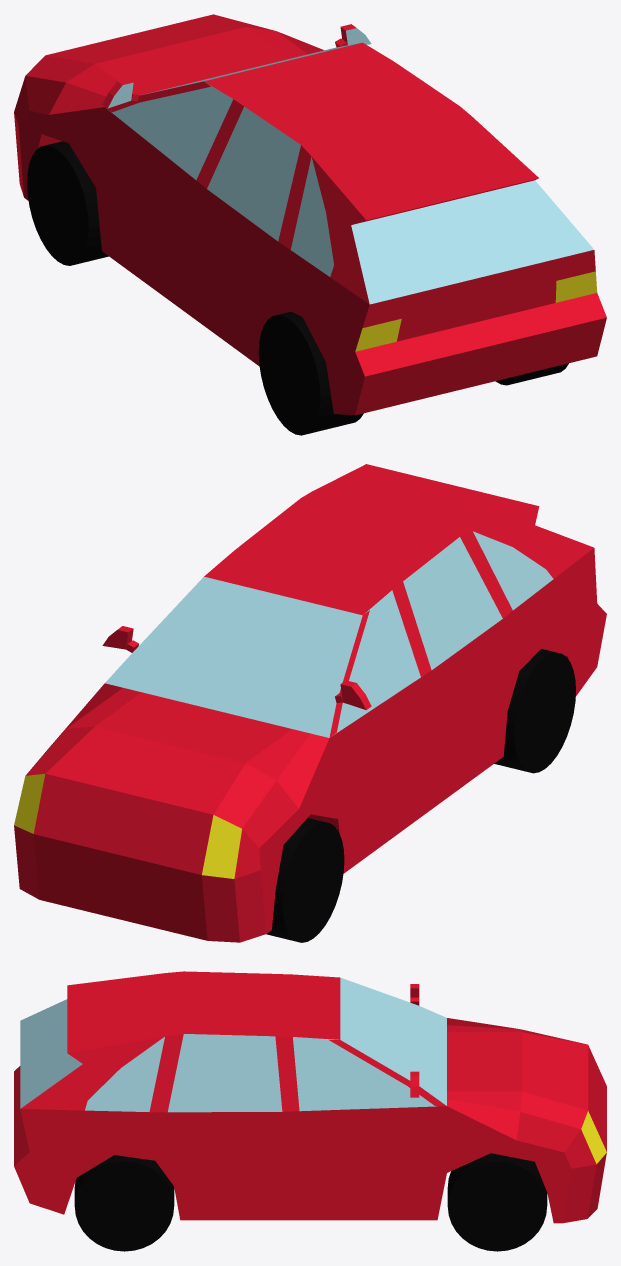
The model's file is car.glb.
3 renders of one model, top to bottom at view 1: azimuth 30°, elevation 25°; view 2: azimuth 150°, elevation 25°; view 3: azimuth 270°, elevation 25°, orthographic. The views are drawn at different scales.
Visible parts, largest first — view 1: Cube, Cube.005, Cube.007, Cylinder.003, Cylinder.002, Cube.006, Cube.008, Cube.011, Cube.012; view 2: Cube, Cube.003, Cube.007, Cylinder.002, Cylinder.003, Cube.006, Cube.008, Cube.009, Cube.010; view 3: Cube, Cube.002, Cylinder, Cube.003, Cylinder.001, Cube.001, Cube.005, Cube.004, Cube.010.
Part boxes in pixels (box(x1,y1,x2,y2)): Cube: box(14, 14, 606, 415); Cube.005: box(351, 180, 594, 304); Cube.007: box(207, 106, 300, 241); Cylinder.003: box(258, 311, 363, 435); Cylinder.002: box(27, 141, 108, 265); Cube.006: box(106, 82, 233, 179); Cube.008: box(291, 157, 333, 276); Cube.011: box(355, 318, 401, 351); Cube.012: box(555, 271, 597, 302); Cube: box(14, 464, 606, 942); Cube.003: box(105, 576, 362, 737); Cube.007: box(403, 537, 502, 669); Cylinder.002: box(266, 818, 344, 942); Cylinder.003: box(494, 649, 575, 773); Cube.006: box(333, 590, 420, 735); Cube.008: box(473, 531, 553, 610); Cube.009: box(202, 815, 241, 878); Cube.010: box(14, 774, 45, 833); Cube: box(14, 971, 606, 1223); Cube.002: box(168, 1034, 282, 1112); Cylinder: box(447, 1153, 547, 1251); Cube.003: box(340, 977, 446, 1105); Cylinder.001: box(74, 1155, 174, 1251); Cube.001: box(293, 1037, 436, 1111); Cube.005: box(20, 999, 82, 1108); Cube.004: box(85, 1037, 164, 1111); Cube.010: box(581, 1111, 606, 1164).
Size of the model in its own units: 3.25 by 2.91 by 7.86.
